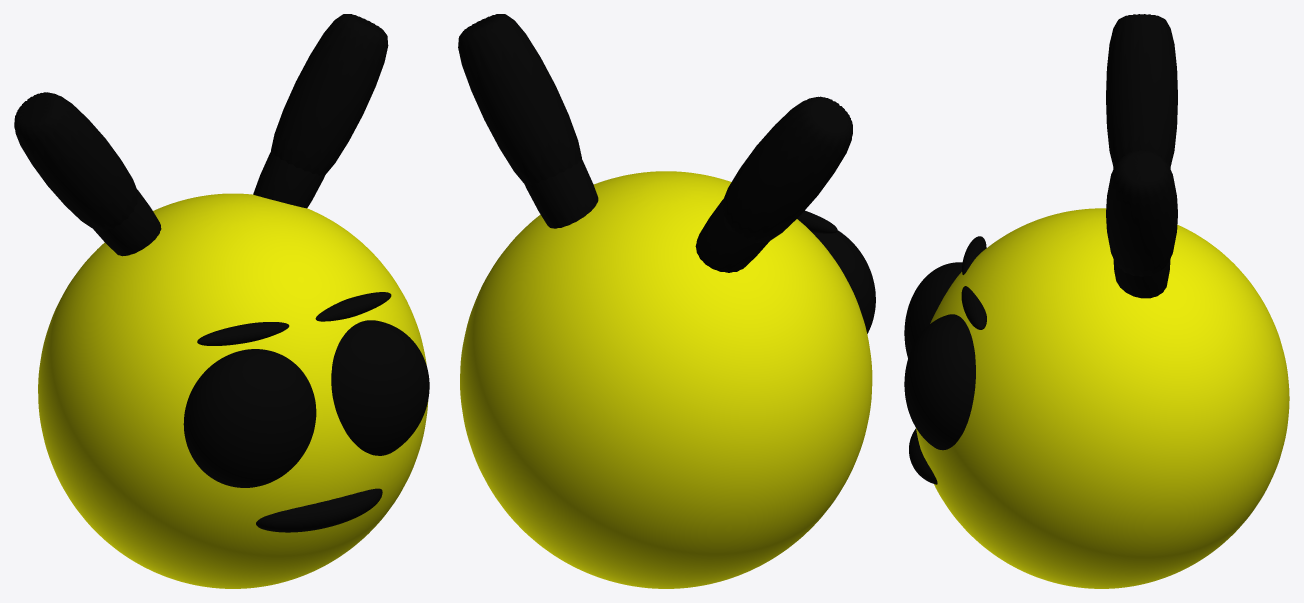
File: G1_ballModelImran.fbx
3 renders of one model, left to right at view 1: azimuth 30°, elevation 25°; view 2: azimuth 150°, elevation 25°; view 3: azimuth 270°, elevation 25°, orthographic. The views are drawn at different scales.
Parts seen in each view (by area): view 1: pSphere1, pCylinder2 (×2), pSphere2, pSphere3, pCylinder1 (×2), pSphere6, pSphere7, pSphere5; view 2: pSphere1, pCylinder2 (×2), pCylinder1 (×2), pSphere2, pSphere7; view 3: pSphere1, pCylinder2 (×2), pSphere3, pSphere2, pCylinder1, pSphere5, pSphere6.
Boxes of the visible parts, box(x1,y1,x2,y2) form: pSphere1: box(38, 193, 428, 588); pCylinder2 (×2): box(14, 14, 388, 230); pSphere2: box(183, 349, 316, 487); pSphere3: box(331, 320, 429, 455); pCylinder1 (×2): box(93, 151, 325, 256); pSphere6: box(256, 488, 382, 532); pSphere7: box(197, 322, 289, 345); pSphere5: box(315, 292, 391, 321); pSphere1: box(460, 171, 872, 588); pCylinder2 (×2): box(458, 14, 852, 242); pCylinder1 (×2): box(524, 158, 769, 272); pSphere2: box(812, 230, 875, 333); pSphere7: box(797, 210, 837, 233); pSphere1: box(916, 208, 1289, 588); pCylinder2 (×2): box(1106, 14, 1177, 276); pSphere3: box(904, 314, 975, 450); pSphere2: box(904, 262, 962, 358); pCylinder1: box(1113, 259, 1170, 298); pSphere5: box(961, 286, 986, 329); pSphere6: box(909, 428, 937, 484).
Size of the model in its own units: 7.8 by 10.29 by 7.4.
